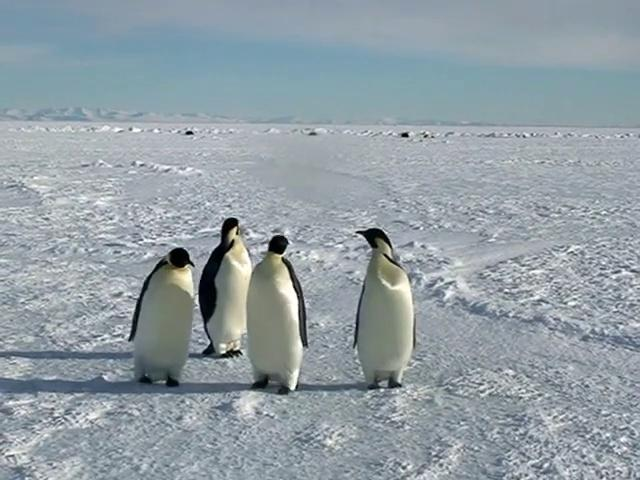animal: (353, 228, 415, 388)
